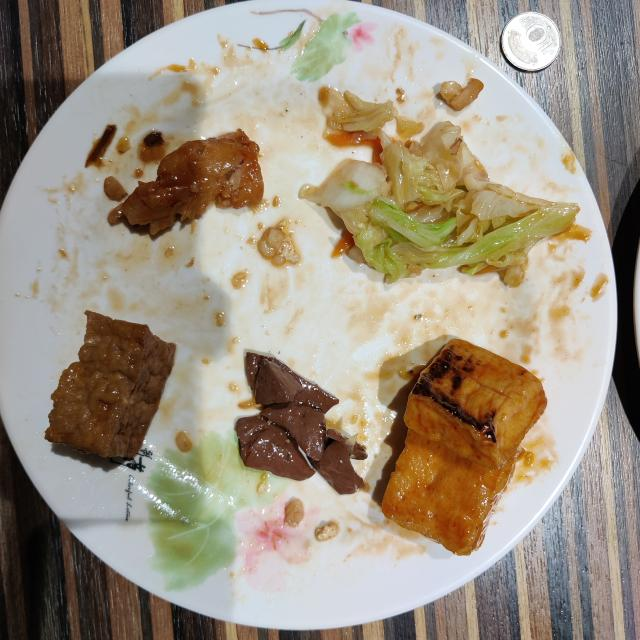Kabayaki sea bream fillet: (109, 129, 264, 235)
cabbage: (299, 88, 579, 286)
coin: (501, 11, 561, 71)
creamy tofu: (382, 339, 546, 555)
egg tofu: (45, 311, 176, 458)
pig blood curd: (235, 352, 368, 494)
